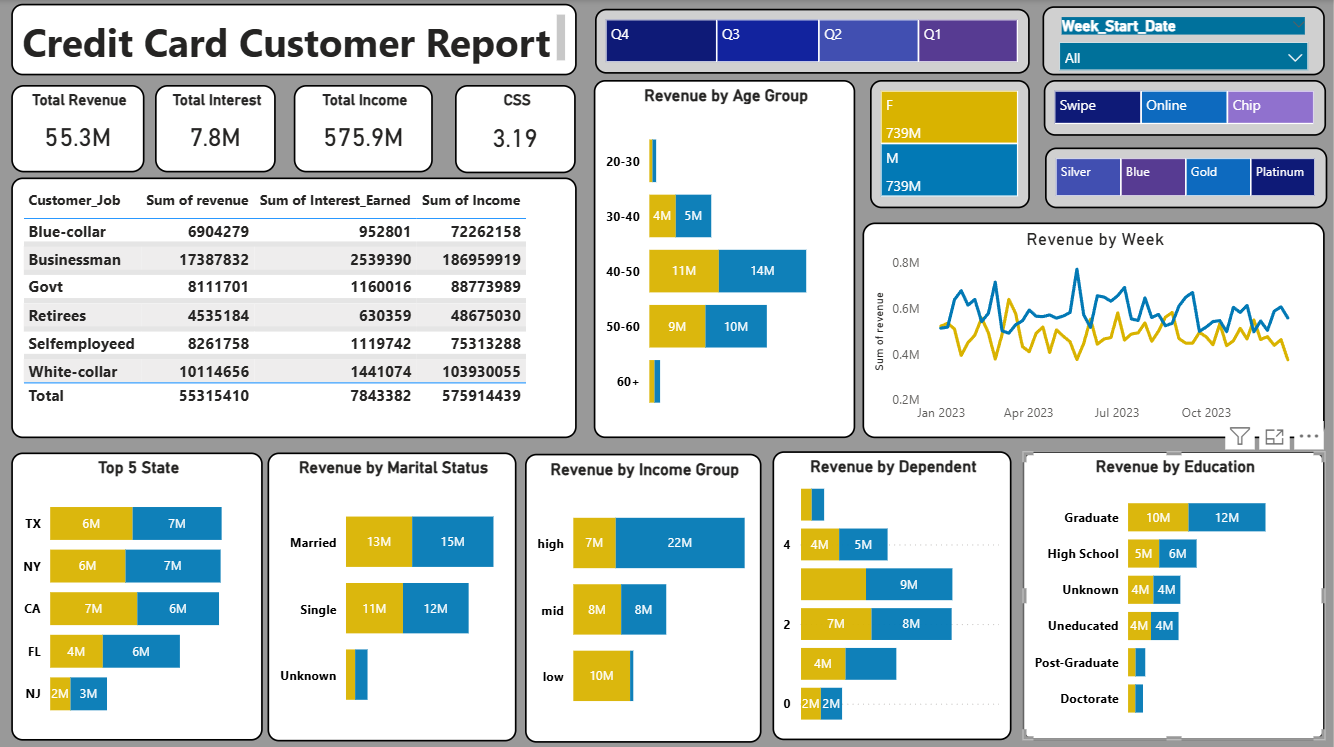

The page's visual inventory and layout, read from the dashboard file:
{"tool":"powerbi","page":{"name":"Credit Card Customer Report","canvas":[1280,720],"ordinal":1},"visuals":[{"type":"slicer","fields":{"Values":["credit_card.Week_Start_Date"]},"box":[1001.2,5.8,270.9,66.3],"z":0},{"type":"barChart","title":"Revenue by Income Group","fields":{"Y":["Sum(credit_card.revenue)"],"Category":["customer.incomegroup"],"Series":["customer.Gender"]},"box":[512.8,434.9,226.7,276.7],"z":1000},{"type":"tableEx","fields":{"Values":["customer.Customer_Job","Sum(credit_card.revenue)","Sum(credit_card.Interest_Earned)","Sum(customer.Income)"]},"box":[10.5,170.9,543,250],"z":2000},{"type":"treemap","fields":{"Group":["credit_card.Qtr"],"Values":["Avg(credit_card.Client_Num)"]},"box":[572.1,8.1,417.4,62.8],"z":3000},{"type":"treemap","fields":{"Group":["credit_card.Card_Category"],"Values":["Avg(credit_card.Client_Num)"]},"box":[1003.5,141.9,270.9,58.1],"z":4000},{"type":"treemap","fields":{"Values":["Avg(credit_card.Client_Num)"],"Group":["customer.Gender"]},"box":[836,76.7,153.5,123.3],"z":6000},{"type":"textbox","box":[10.5,3.5,543,68.6],"z":7000},{"type":"card","title":"Total Revenue","fields":{"Values":["Sum(credit_card.revenue)"]},"box":[10.5,81.4,127.9,83.7],"z":8000},{"type":"card","title":"Total Income","fields":{"Values":["Sum(customer.Income)"]},"box":[282.6,81.4,133.7,83.7],"z":9000},{"type":"card","title":"Total Interest","fields":{"Values":["Sum(credit_card.Interest_Earned)"]},"box":[148.8,81.4,116.3,83.7],"z":10000},{"type":"card","title":"CSS","fields":{"Values":["Avg(customer.Cust_Satisfaction_Score)"]},"box":[437.2,81.4,116.3,84.9],"z":11000},{"type":"lineChart","title":"Revenue by Week","fields":{"Y":["Sum(credit_card.revenue)"],"Series":["customer.Gender"],"Category":["credit_card.Week_Start_Date.Variation.Date Hierarchy.Year","credit_card.Week_Start_Date.Variation.Date Hierarchy.Month","credit_card.Week_Start_Date.Variation.Date Hierarchy.Day"]},"box":[829.1,214,444.2,207],"z":12000},{"type":"barChart","title":"Revenue by Age Group","fields":{"Y":["Sum(credit_card.revenue)"],"Category":["customer.agegroup"],"Series":["customer.Gender"]},"box":[569.8,76.7,251.2,344.2],"z":14000},{"type":"barChart","title":"Revenue by Dependent","fields":{"Y":["Sum(credit_card.revenue)"],"Category":["customer.Dependent_Count"],"Series":["customer.Gender"]},"box":[750,434.9,230.2,276.7],"z":15000},{"type":"barChart","title":"Revenue by Education","fields":{"Y":["Sum(credit_card.revenue)"],"Category":["customer.Education_Level"],"Series":["customer.Gender"]},"box":[989.5,434.9,290.7,276.7],"z":16000},{"type":"barChart","title":"Top 5 State","fields":{"Y":["Sum(credit_card.revenue)"],"Category":["customer.state_cd"],"Series":["customer.Gender"]},"box":[10.5,434.9,241.9,276.7],"z":16001},{"type":"barChart","title":"Revenue by Marital Status","fields":{"Y":["Sum(credit_card.revenue)"],"Category":["customer.Marital_Status"],"Series":["customer.Gender"]},"box":[265.1,434.9,239.5,276.7],"z":16002},{"type":"treemap","fields":{"Values":["Avg(credit_card.Client_Num)"],"Group":["credit_card.Use Chip"]},"box":[1002.3,76.7,270.9,53.5],"z":16003}]}

Visuals, with their boxes in screenshot pixels (x1, y1, x2, y2), scaled from the page's 1280x720 canvas onto the 1334x747 screenshot:
slicer - credit_card.Week_Start_Date: pyautogui.locateOnScreen(1043, 6, 1326, 75)
"Revenue by Income Group" barChart: pyautogui.locateOnScreen(534, 451, 771, 738)
tableEx - customer.Customer_Job x Sum(credit_card.revenue): pyautogui.locateOnScreen(11, 177, 577, 437)
treemap - credit_card.Qtr x Avg(credit_card.Client_Num): pyautogui.locateOnScreen(596, 8, 1031, 74)
treemap - credit_card.Card_Category x Avg(credit_card.Client_Num): pyautogui.locateOnScreen(1046, 147, 1328, 208)
treemap - Avg(credit_card.Client_Num) x customer.Gender: pyautogui.locateOnScreen(871, 80, 1031, 208)
textbox: pyautogui.locateOnScreen(11, 4, 577, 75)
"Total Revenue" card: pyautogui.locateOnScreen(11, 84, 144, 171)
"Total Income" card: pyautogui.locateOnScreen(295, 84, 434, 171)
"Total Interest" card: pyautogui.locateOnScreen(155, 84, 276, 171)
"CSS" card: pyautogui.locateOnScreen(456, 84, 577, 173)
"Revenue by Week" lineChart: pyautogui.locateOnScreen(864, 222, 1327, 437)
"Revenue by Age Group" barChart: pyautogui.locateOnScreen(594, 80, 856, 437)
"Revenue by Dependent" barChart: pyautogui.locateOnScreen(782, 451, 1022, 738)
"Revenue by Education" barChart: pyautogui.locateOnScreen(1031, 451, 1333, 738)
"Top 5 State" barChart: pyautogui.locateOnScreen(11, 451, 263, 738)
"Revenue by Marital Status" barChart: pyautogui.locateOnScreen(276, 451, 526, 738)
treemap - Avg(credit_card.Client_Num) x credit_card.Use Chip: pyautogui.locateOnScreen(1045, 80, 1327, 135)
